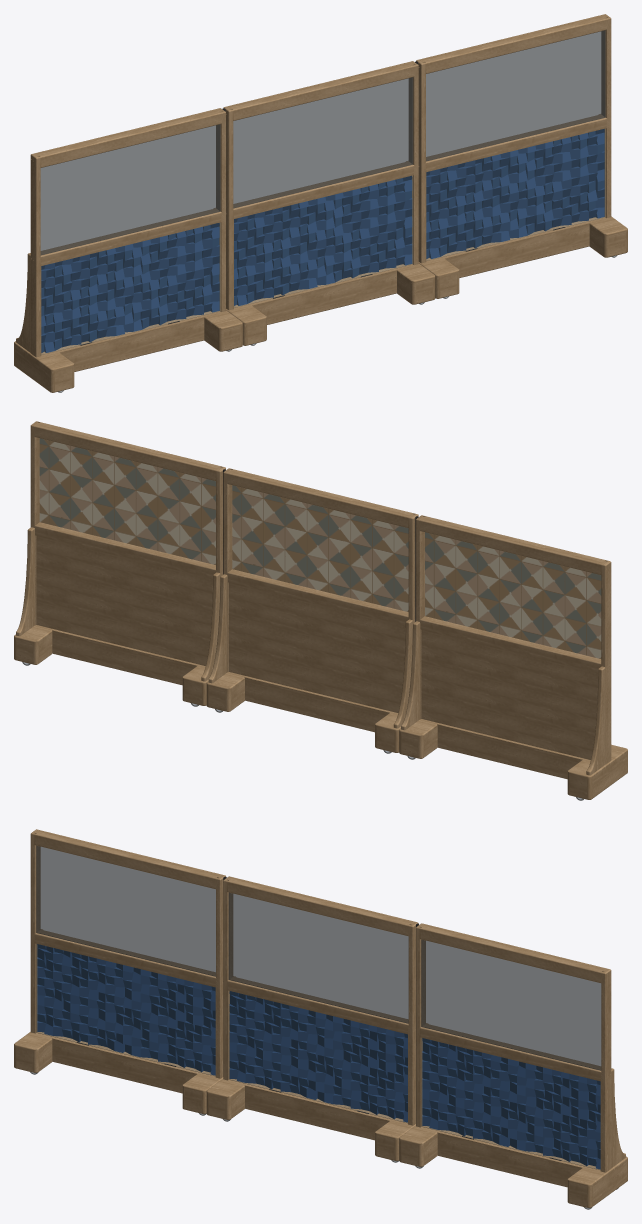
The model's file is v10-linen-marquetry-hazelnut-three.glb.
3 renders of one model, top to bottom at view 1: azimuth 30°, elevation 25°; view 2: azimuth 150°, elevation 25°; view 3: azimuth 330°, elevation 25°, orthographic.
Parts seen in each view (by area): view 1: Left Wood, Left Linen Marquetry reverse, Linen Marquetry reverse, Right Linen Marquetry reverse, Cover glass, Right Navy Everwood relief, Left Navy Everwood relief, Navy Everwood relief, Right Cover glass, Left Cover glass, Right Wood, Wood; view 2: Left Wood, Wood, Right Wood, Linen Marquetry print, Right Linen Marquetry print, Left Linen Marquetry print; view 3: Right Wood, Linen Marquetry reverse, Right Linen Marquetry reverse, Left Linen Marquetry reverse, Cover glass, Left Navy Everwood relief, Right Navy Everwood relief, Navy Everwood relief, Right Cover glass, Left Cover glass, Left Wood, Wood.
Part boxes in pixels (box(x1,y1,x2,y2)): Left Wood: box(14, 108, 242, 392); Left Linen Marquetry reverse: box(40, 124, 220, 255); Linen Marquetry reverse: box(233, 77, 413, 208); Right Linen Marquetry reverse: box(426, 30, 605, 161); Cover glass: box(234, 176, 412, 306); Right Navy Everwood relief: box(426, 128, 604, 258); Left Navy Everwood relief: box(41, 223, 219, 352); Navy Everwood relief: box(234, 175, 412, 305); Right Cover glass: box(427, 129, 604, 259); Left Cover glass: box(42, 223, 219, 353); Right Wood: box(416, 14, 627, 298); Wood: box(223, 61, 435, 345); Left Wood: box(399, 515, 627, 799); Wood: box(206, 468, 418, 752); Right Wood: box(14, 421, 225, 705); Linen Marquetry print: box(232, 485, 408, 611); Right Linen Marquetry print: box(39, 438, 215, 564); Left Linen Marquetry print: box(425, 532, 601, 658); Right Wood: box(399, 923, 627, 1207); Linen Marquetry reverse: box(228, 892, 408, 1023); Right Linen Marquetry reverse: box(421, 940, 601, 1070); Left Linen Marquetry reverse: box(36, 846, 215, 976); Cover glass: box(229, 991, 407, 1122); Left Navy Everwood relief: box(37, 944, 215, 1075); Right Navy Everwood relief: box(422, 1038, 600, 1169); Navy Everwood relief: box(229, 991, 407, 1122); Right Cover glass: box(422, 1038, 599, 1169); Left Cover glass: box(37, 944, 214, 1075); Left Wood: box(14, 829, 225, 1114); Wood: box(206, 876, 418, 1161).
Size of the model in its own units: 5.03 by 1.91 by 0.5842.
10 materials, 2 textured.
